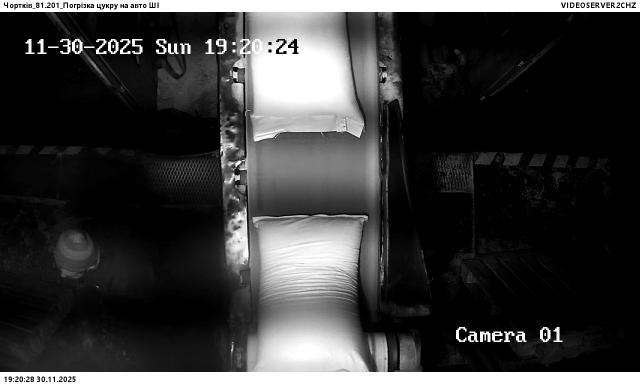bag: (254, 216, 374, 371), (252, 12, 365, 141)
